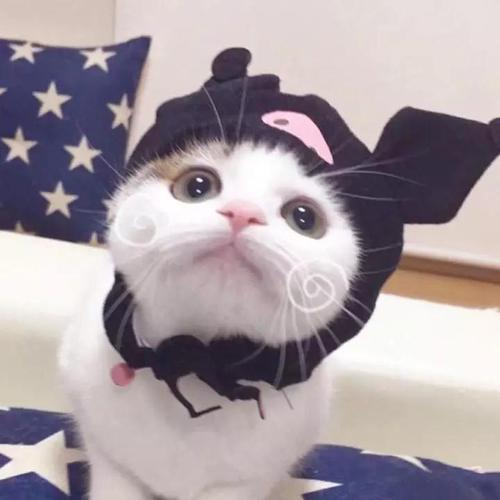cat: (95, 101, 390, 362)
